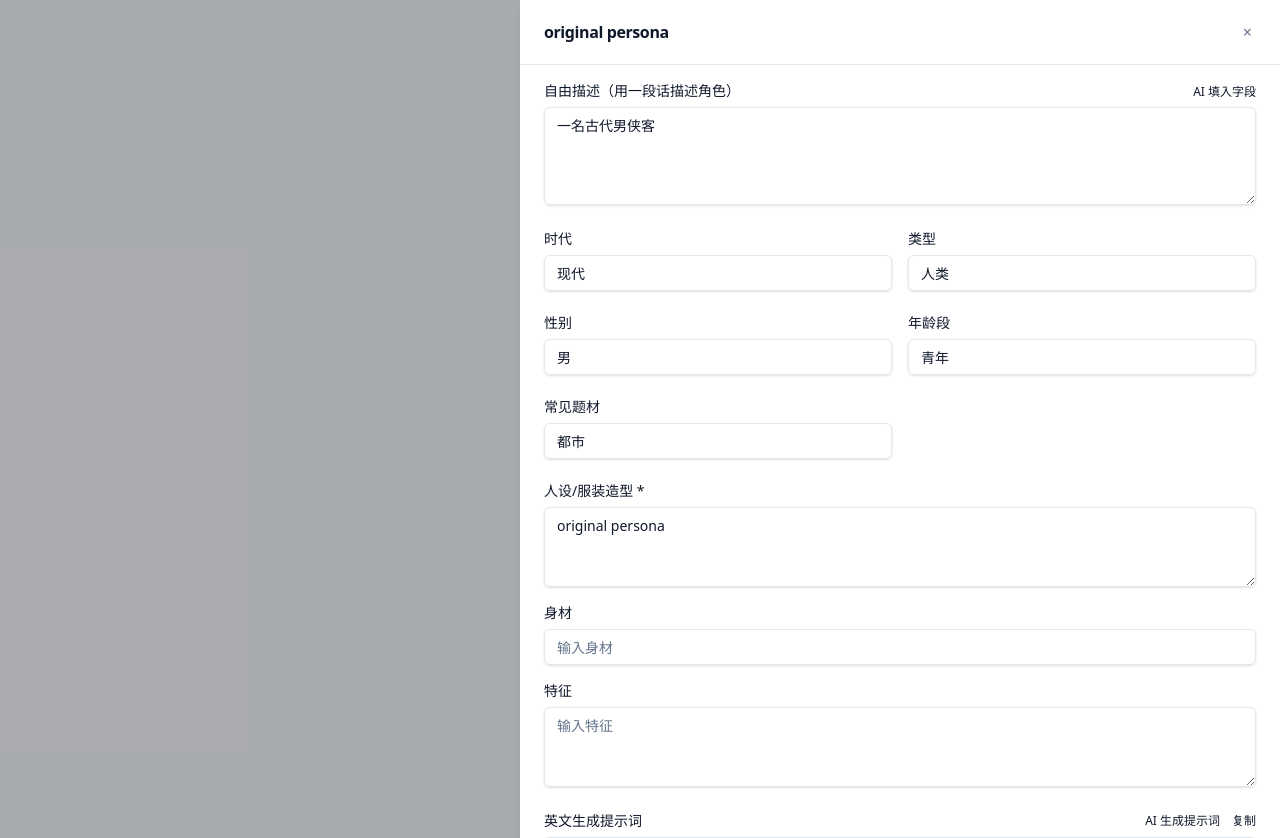
Test: CharacterDrawer › AI 填入字段 runs extractFields against the description and merges
Click the button "AI 填入字段" at (1225, 92), box [1193,84,1256,100]
(page scrolled)
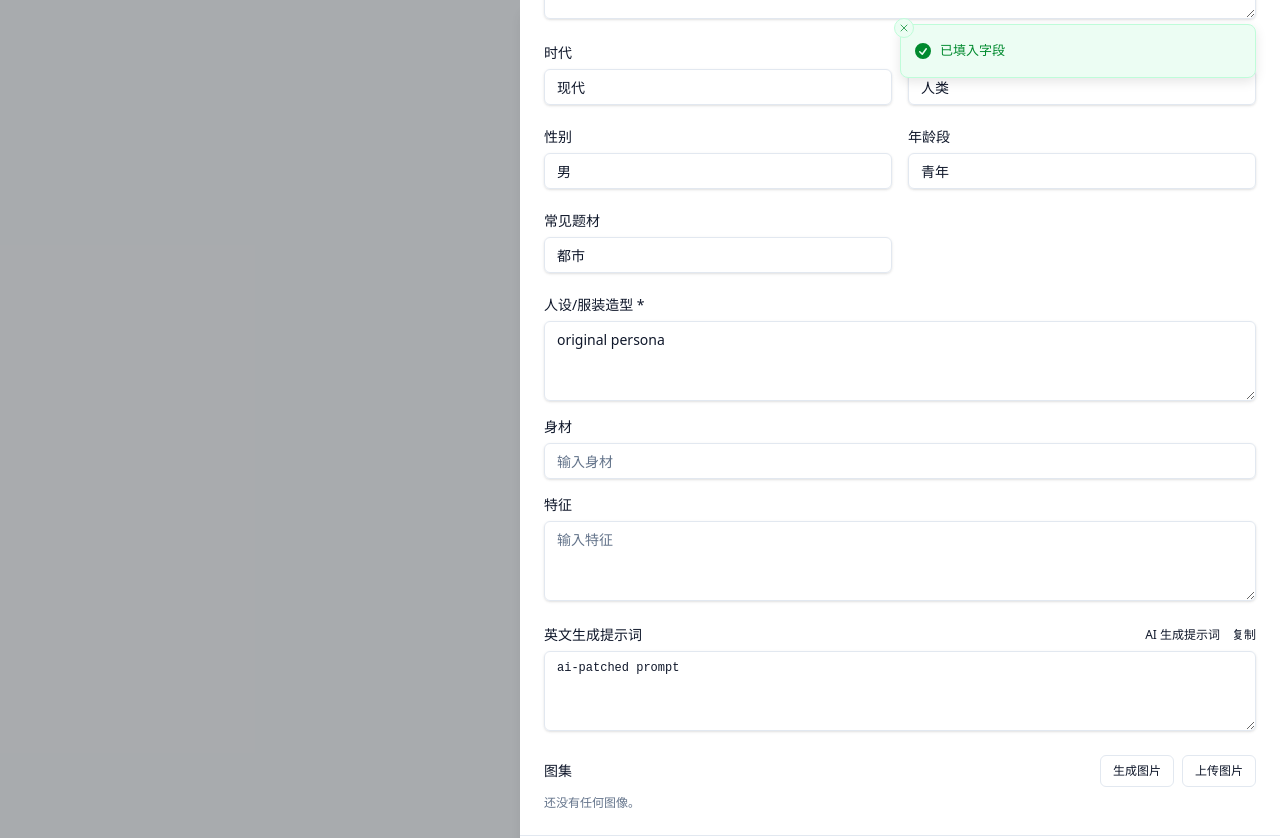
Expected: the text box showing "ai-patched prompt" below "英文生成提示词" is shown, [544,651,1256,731]
